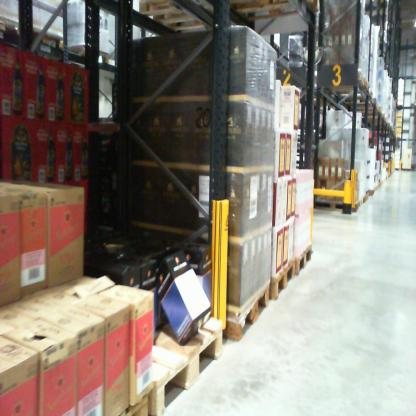pallet: (147, 301, 226, 413), (211, 1, 332, 34), (218, 276, 275, 346), (132, 4, 227, 36), (267, 256, 298, 309), (62, 43, 117, 67), (110, 385, 151, 414), (27, 24, 67, 52), (293, 241, 316, 282), (2, 17, 31, 47)
